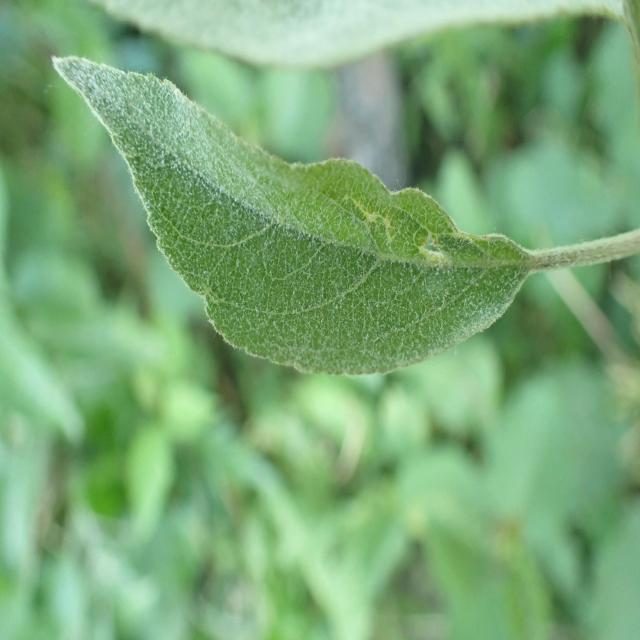Powdery_mildew: (51, 31, 536, 378)
